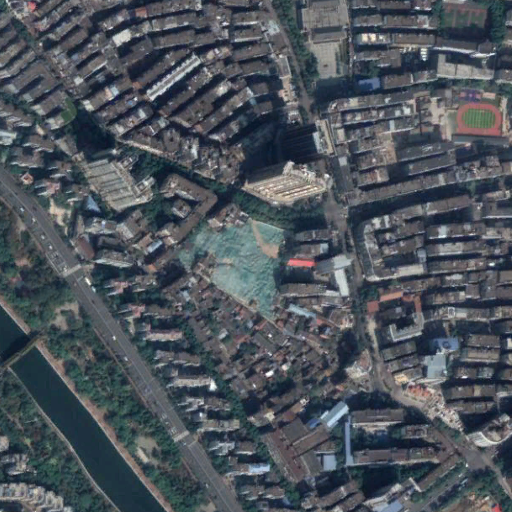cw: (176, 210, 286, 331)
